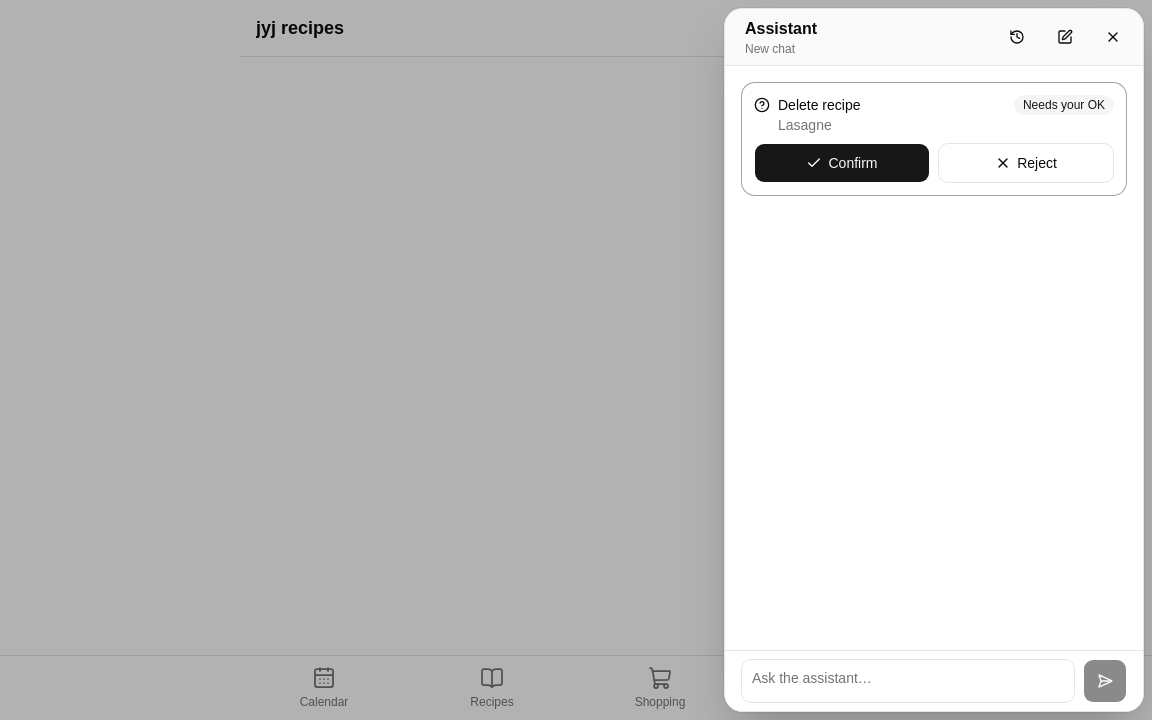
Test: chat › rejects a proposed action without touching feature queries
What coordinates should you click on to do the following:
click the button "Reject"
I would click on:
 (1026, 163)
Its box is [938,143,1114,183].
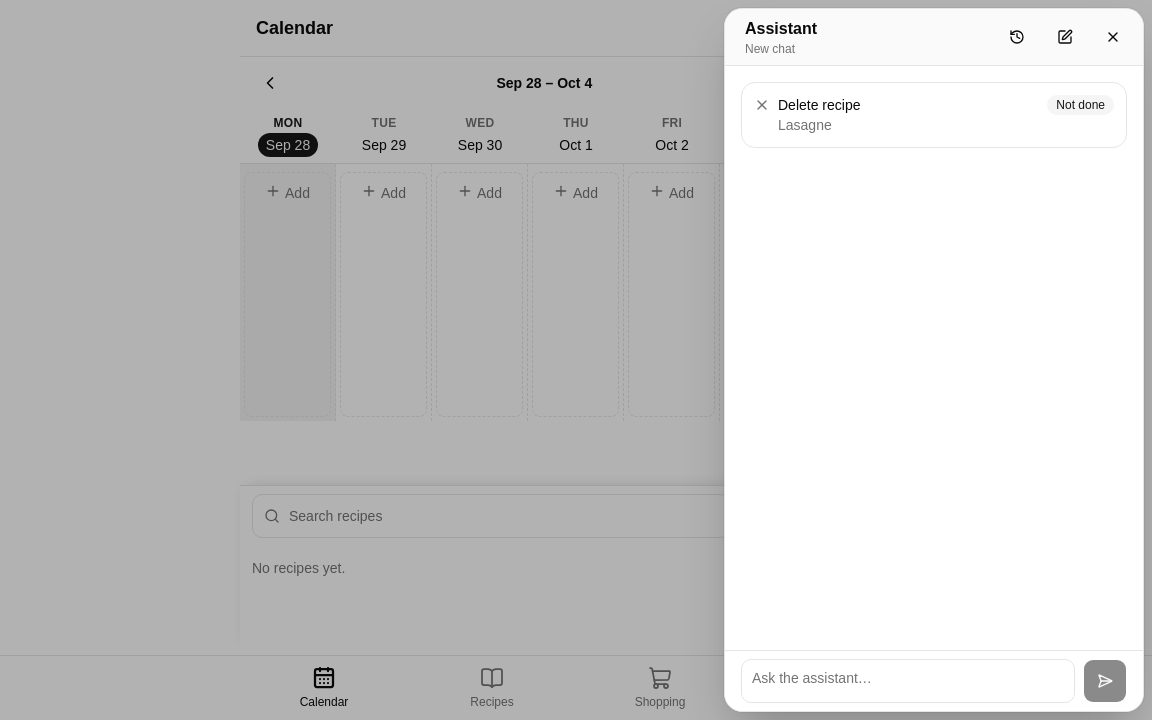
Check: the text "Not done" is shown, box [1047,95,1114,115]
Check: the button "Reject" is gone
